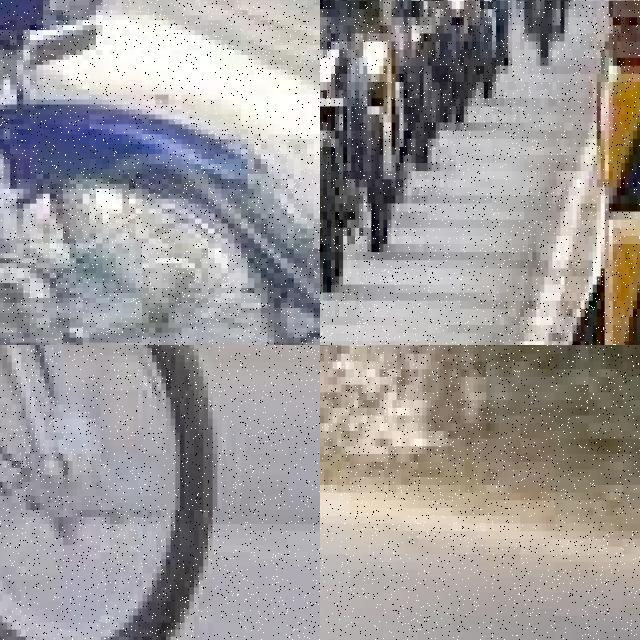bike: (0, 0, 320, 345), (0, 345, 231, 640), (363, 17, 412, 252), (320, 17, 355, 325), (444, 0, 476, 122), (524, 0, 564, 57)
